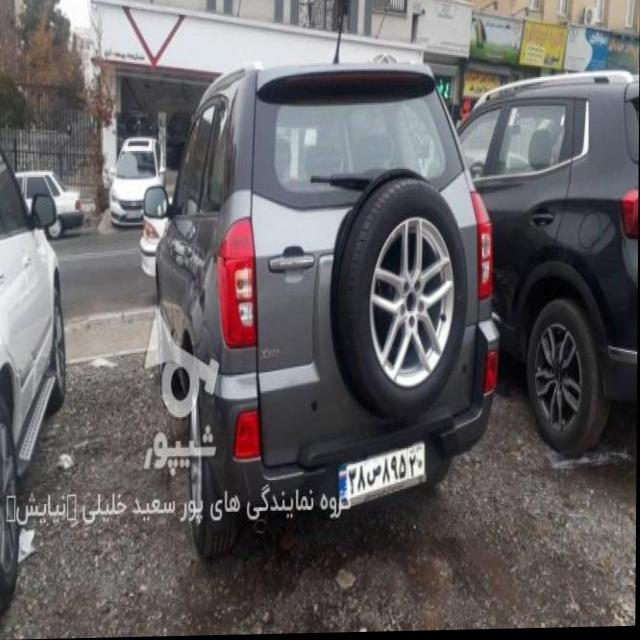licence: (338, 437, 426, 512)
